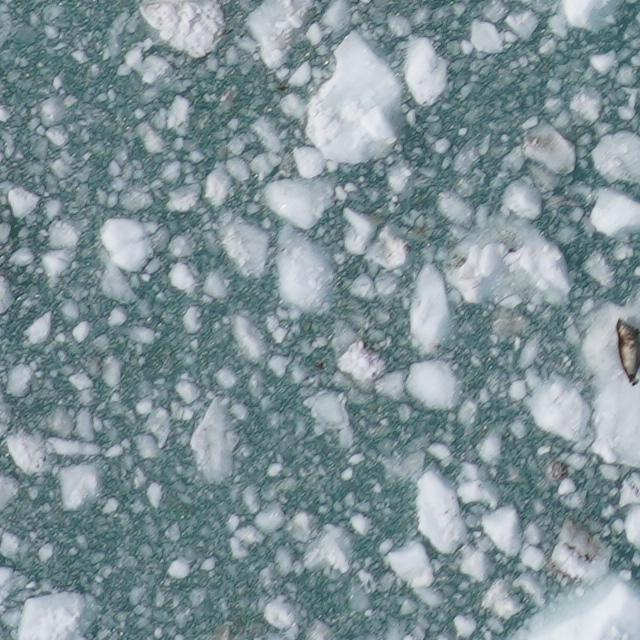seal: (616, 316, 639, 387)
